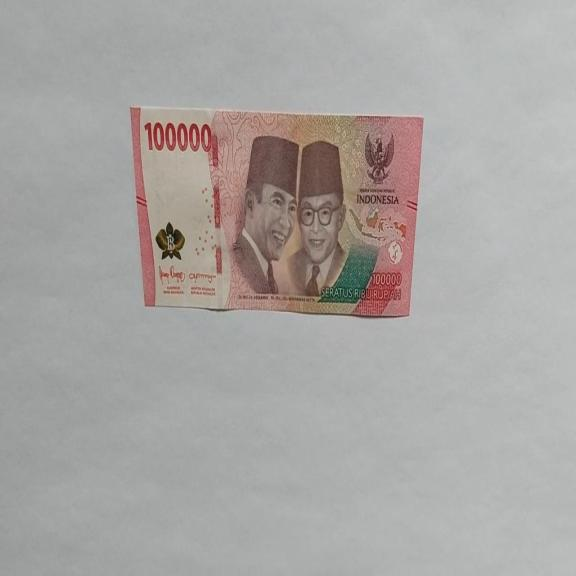Kertas: (130, 104, 425, 318), (143, 118, 213, 155)
